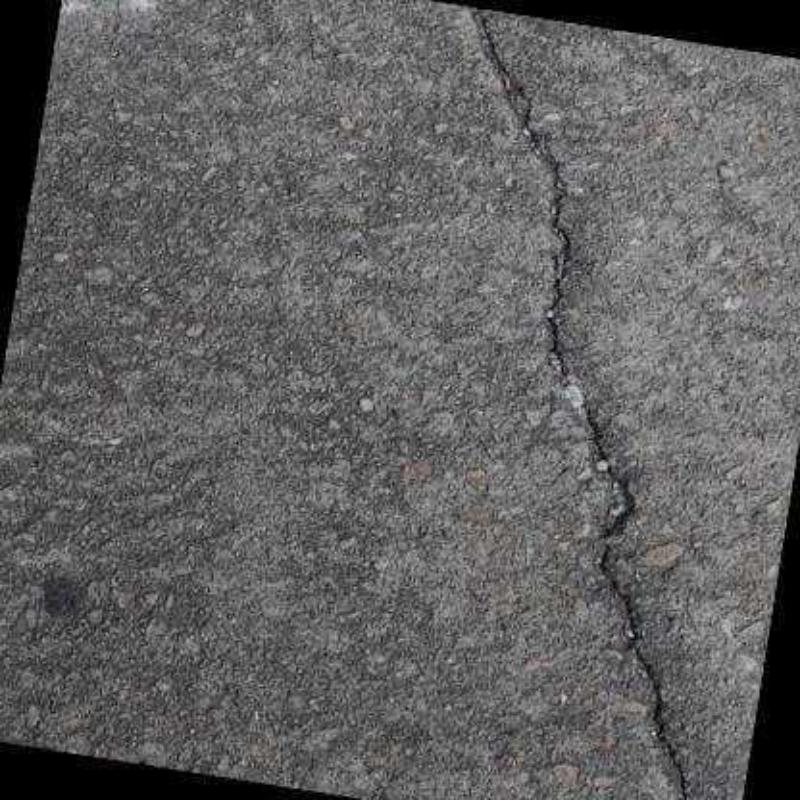crack: (470, 7, 689, 799)
